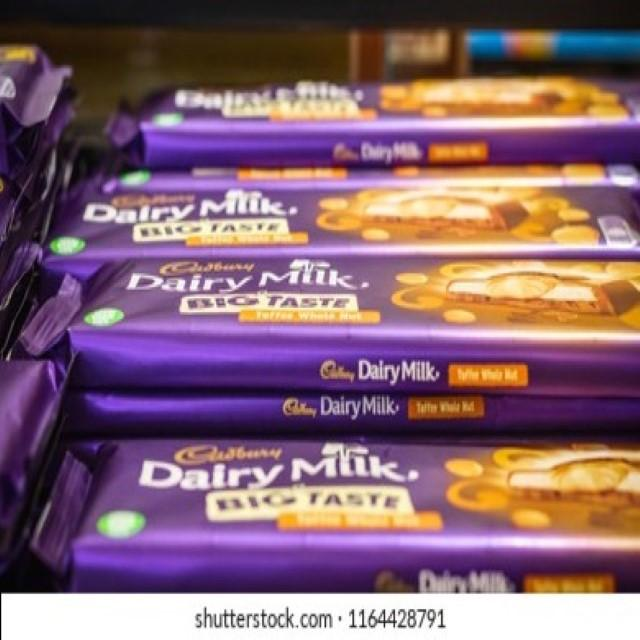cadbury_chocolate: (58, 442, 640, 585), (68, 253, 633, 392), (42, 165, 640, 277), (133, 78, 640, 162)
